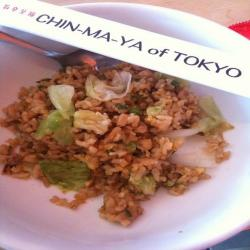rice: (13, 59, 208, 207)
